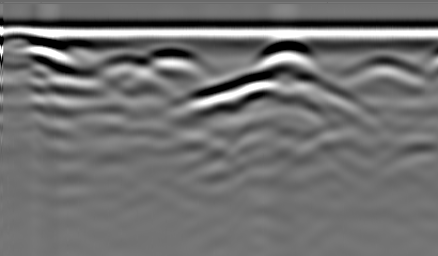pipe: (3, 31, 37, 48)
steel: (265, 39, 319, 67), (361, 54, 419, 79), (100, 53, 152, 74), (152, 45, 199, 67)
